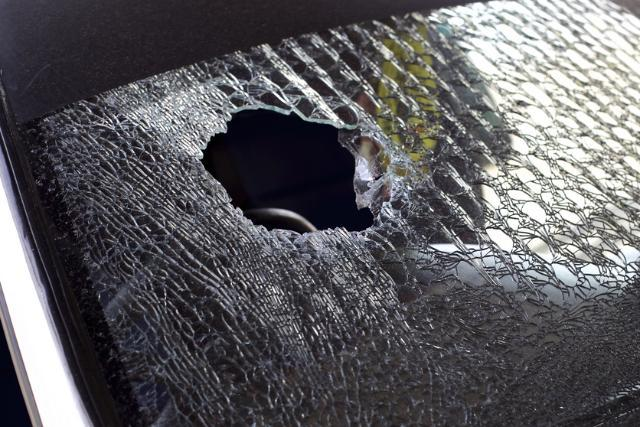Windshield: (30, 37, 640, 427)
